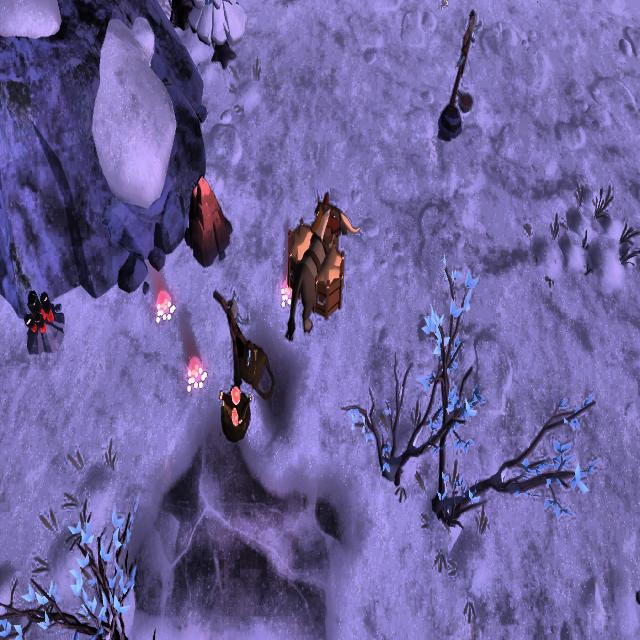ore_t5: (20, 290, 54, 336)
rock_t5: (186, 176, 232, 269)
